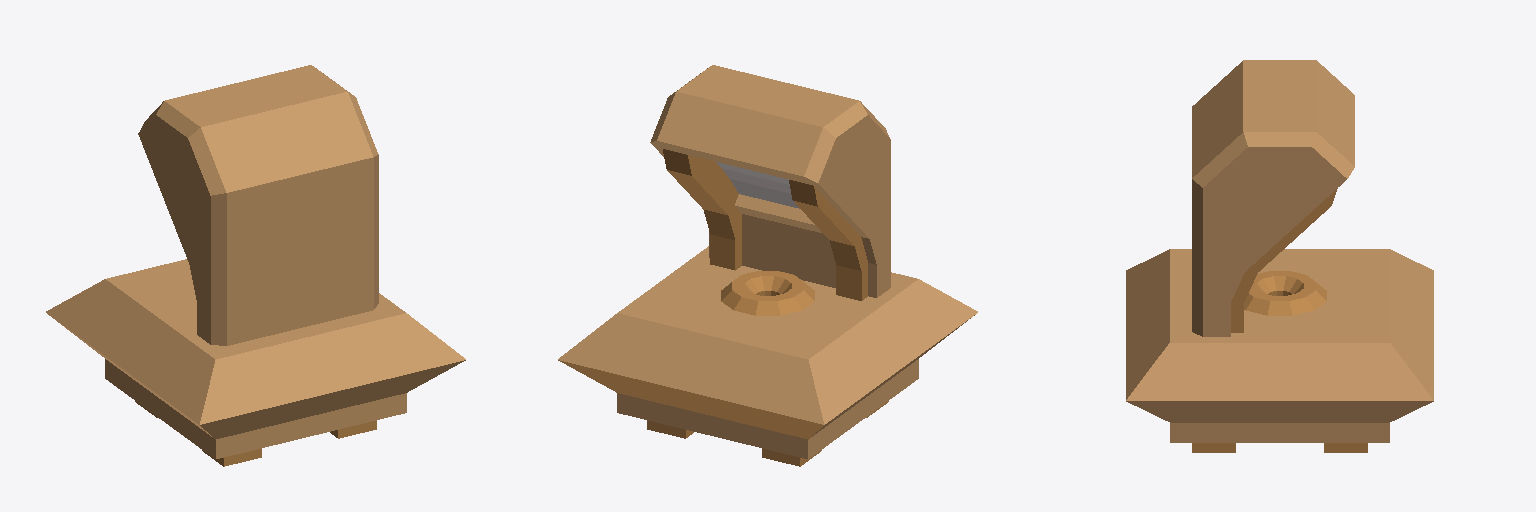
Rendered from Puzzle_Sliding_Emitter.obj.
3 views of the same model, side by side, from view 1: azimuth 30°, elevation 25°; view 2: azimuth 150°, elevation 25°; view 3: azimuth 270°, elevation 25° (orthographic).
Visible parts, largest first — view 1: object1, object2; view 2: object2, object1, object3; view 3: object2, object1, object3.
Boxes of the visible parts, x1=… form: object1: x1=138, y1=65, x2=378, y2=345; object2: x1=46, y1=259, x2=465, y2=466; object2: x1=558, y1=246, x2=977, y2=466; object1: x1=650, y1=65, x2=890, y2=300; object3: x1=721, y1=271, x2=814, y2=315; object2: x1=1126, y1=249, x2=1433, y2=452; object1: x1=1192, y1=60, x2=1354, y2=336; object3: x1=1244, y1=271, x2=1326, y2=315.
Size of the model in its own units: 0.7 by 0.8 by 0.7.